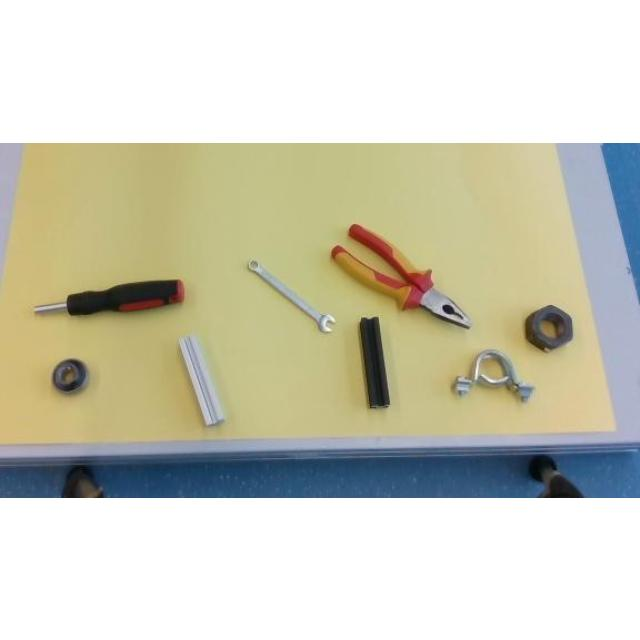Bearing2: (52, 358, 86, 392)
F20_20_B: (359, 315, 389, 407)
F20_20_G: (179, 334, 225, 424)
Housing: (452, 347, 536, 403)
M30: (525, 304, 573, 350)
